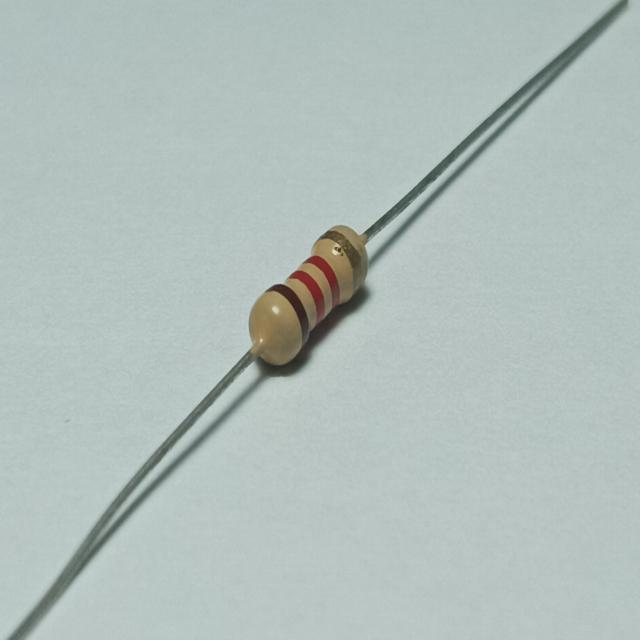1.2k ohms: (235, 208, 380, 384)
